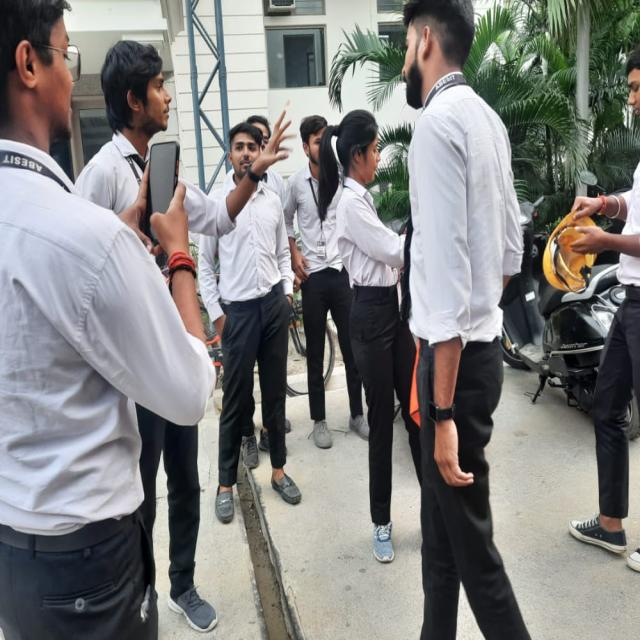unsafe: (0, 1, 198, 640), (388, 0, 542, 640), (88, 36, 228, 640), (548, 51, 640, 583), (328, 107, 431, 563), (199, 116, 308, 526), (224, 116, 291, 535)
